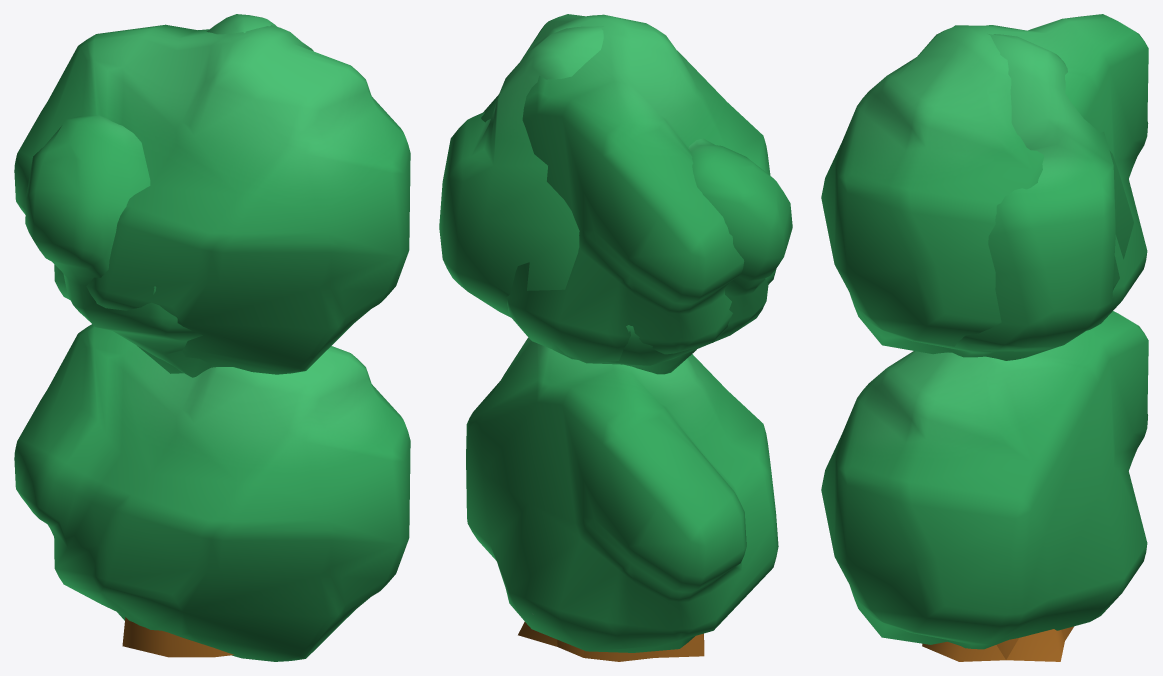
The model's file is Envrionment_props.fbx.
The picture shows the model from 3 angles, left to right: view 1: azimuth 30°, elevation 25°; view 2: azimuth 150°, elevation 25°; view 3: azimuth 270°, elevation 25°; orthographic projection.
Parts seen in each view (by area): view 1: Shrub, Tree2, Tree1; view 2: Shrub, Tree2, Tree1; view 3: Shrub, Tree2, Tree1.
Part boxes in pixels (<box>): Shrub: <box>14,324,410,661</box>; Tree2: <box>14,24,410,374</box>; Tree1: <box>25,14,276,657</box>; Shrub: <box>466,337,778,652</box>; Tree2: <box>481,14,776,657</box>; Tree1: <box>439,26,792,661</box>; Shrub: <box>821,311,1148,649</box>; Tree2: <box>821,14,1148,659</box>; Tree1: <box>922,33,1133,661</box>.
Size of the model in its own units: 231 by 405 by 195.
